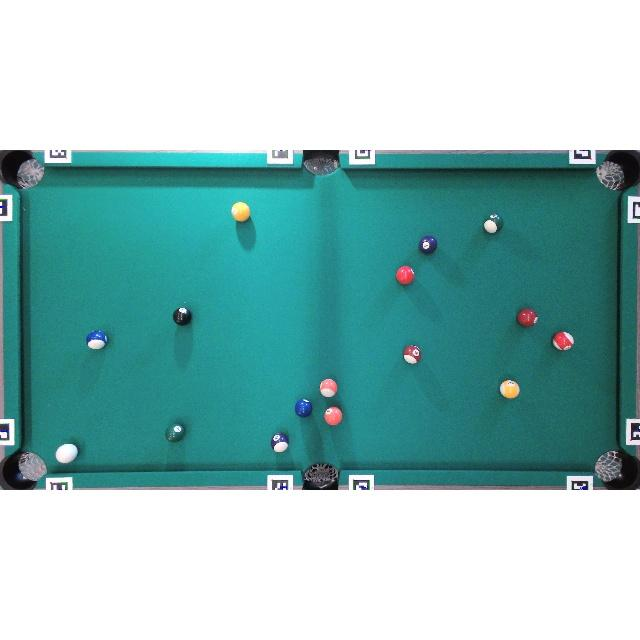cue ball: (55, 443, 78, 464)
other: (86, 330, 108, 350), (552, 331, 574, 351), (517, 308, 538, 327), (396, 265, 415, 285), (231, 202, 250, 222), (484, 214, 503, 234), (319, 378, 338, 398), (166, 423, 185, 443), (403, 345, 422, 364), (294, 398, 312, 418), (324, 406, 342, 426), (173, 307, 191, 326), (500, 380, 519, 398), (271, 433, 289, 452), (419, 236, 437, 254)
